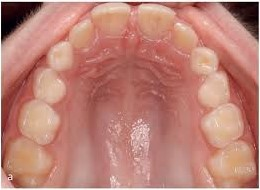UL1BC_healthy: (198, 71, 229, 106)
UL1M_healthy: (210, 145, 258, 188)
UL2BC_healthy: (199, 105, 245, 143)
ULCI_healthy: (136, 5, 172, 41)
ULC_healthy: (192, 49, 218, 73)
ULLI_healthy: (173, 24, 196, 53)
UR1BC_healthy: (35, 68, 67, 101)
UR1M_healthy: (5, 136, 55, 185)
UR2BC_healthy: (23, 102, 60, 140)
URCI_healthy: (95, 4, 133, 36)
URC_healthy: (50, 43, 75, 71)
URLI_healthy: (71, 22, 93, 46)
